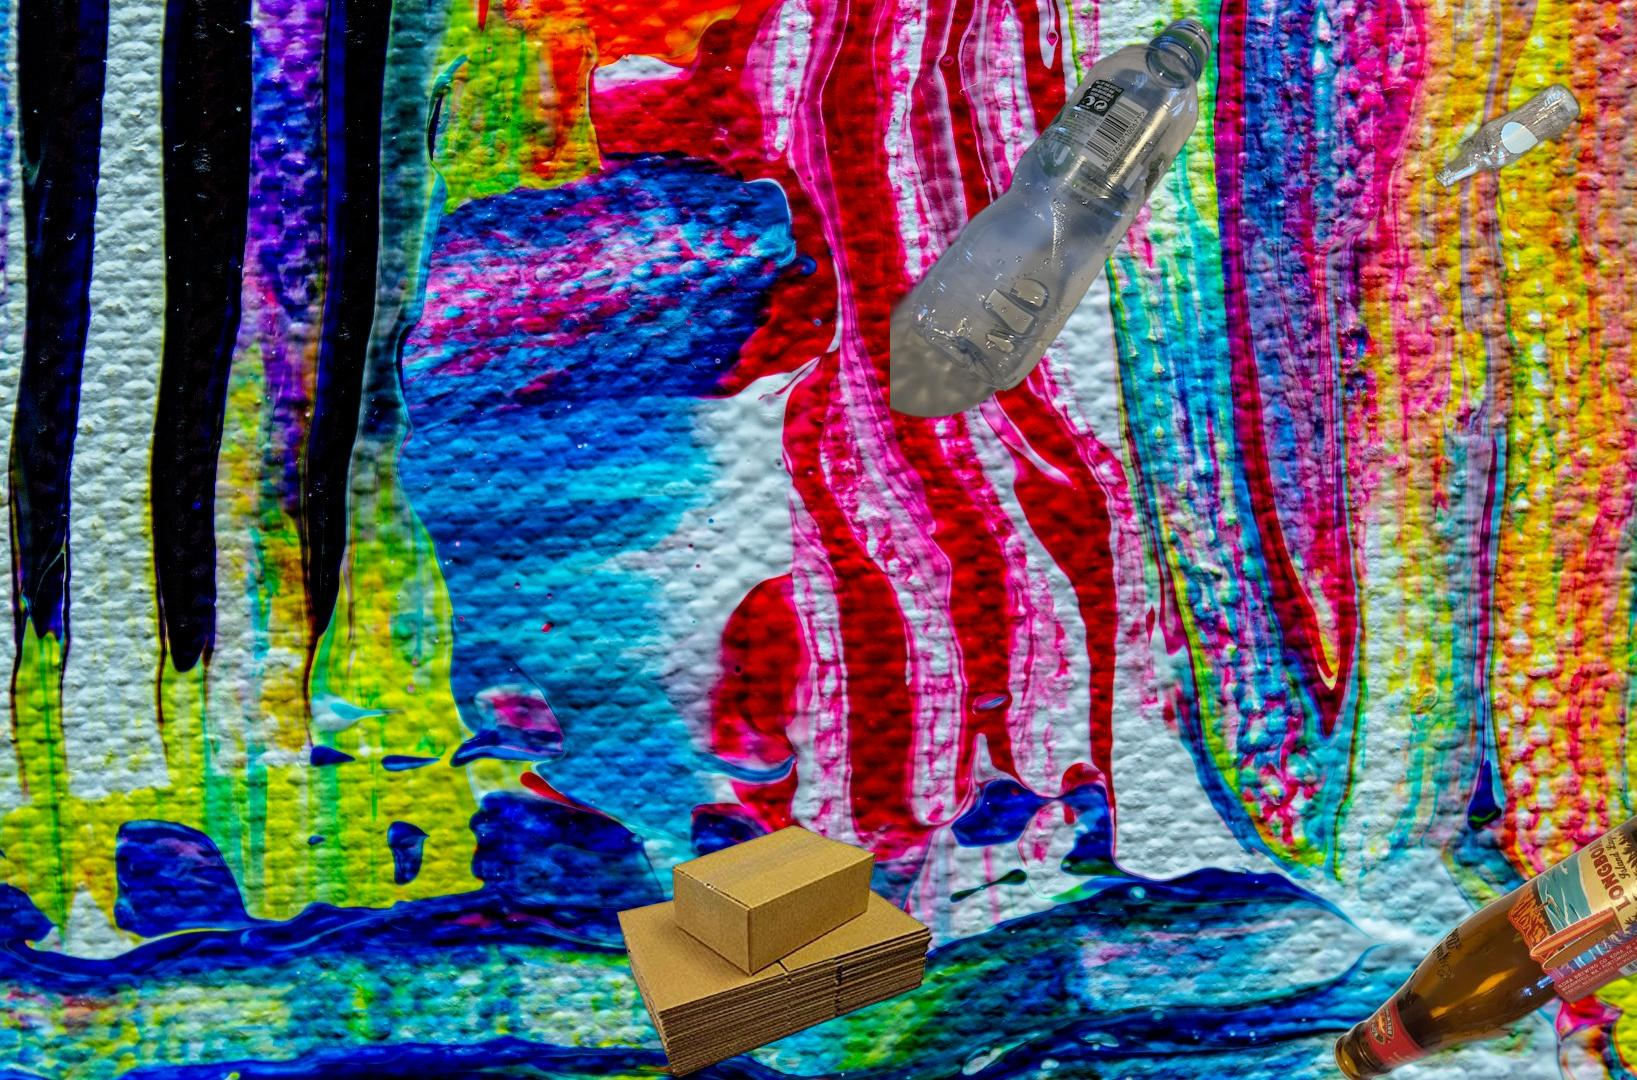glass: (1328, 792, 1637, 1080), (1427, 77, 1585, 221)
plastic-bottles: (890, 14, 1214, 486)
trashbox-cardboard: (615, 824, 935, 1079)
